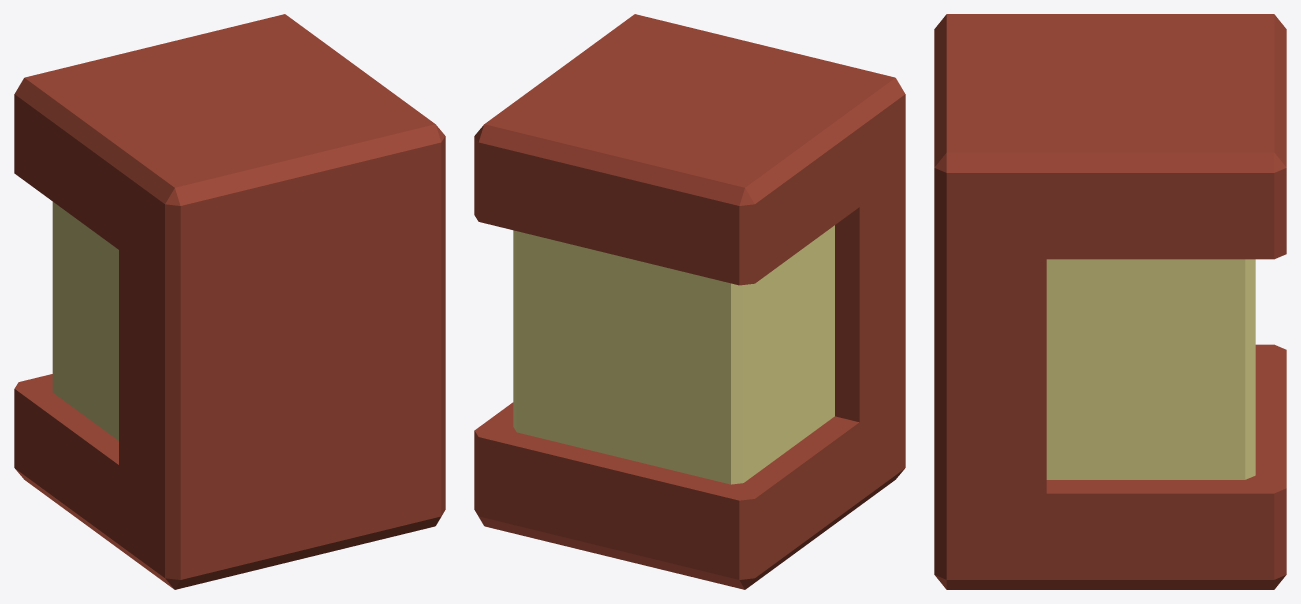
File: platform.fbx
3 views of the same model, side by side, from view 1: azimuth 30°, elevation 25°; view 2: azimuth 150°, elevation 25°; view 3: azimuth 270°, elevation 25° (orthographic). The views are drawn at different scales.
Visible parts, largest first — view 1: Cube.109; view 2: Cube.109; view 3: Cube.109.
Boxes of the visible parts, x1,y1,x2,y2 form: Cube.109: (14, 14, 445, 589); Cube.109: (474, 14, 905, 589); Cube.109: (934, 14, 1286, 589).
Bounding box in the file's own units: 200 × 200 × 274.
